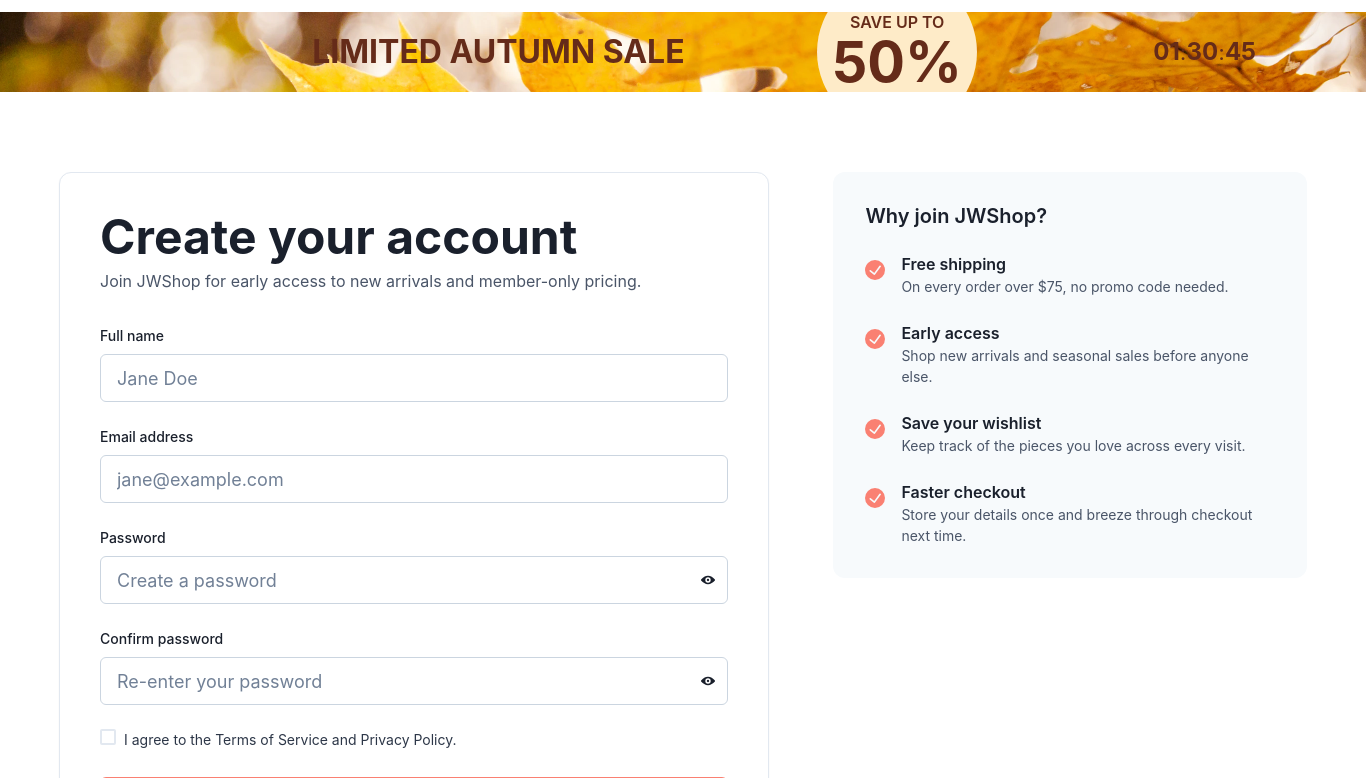
Scenario: RegisterPage component › shows an error when the name is left empty on blur
Click the field labelled "Full name" at coordinates (414, 378), box [100, 354, 728, 402]
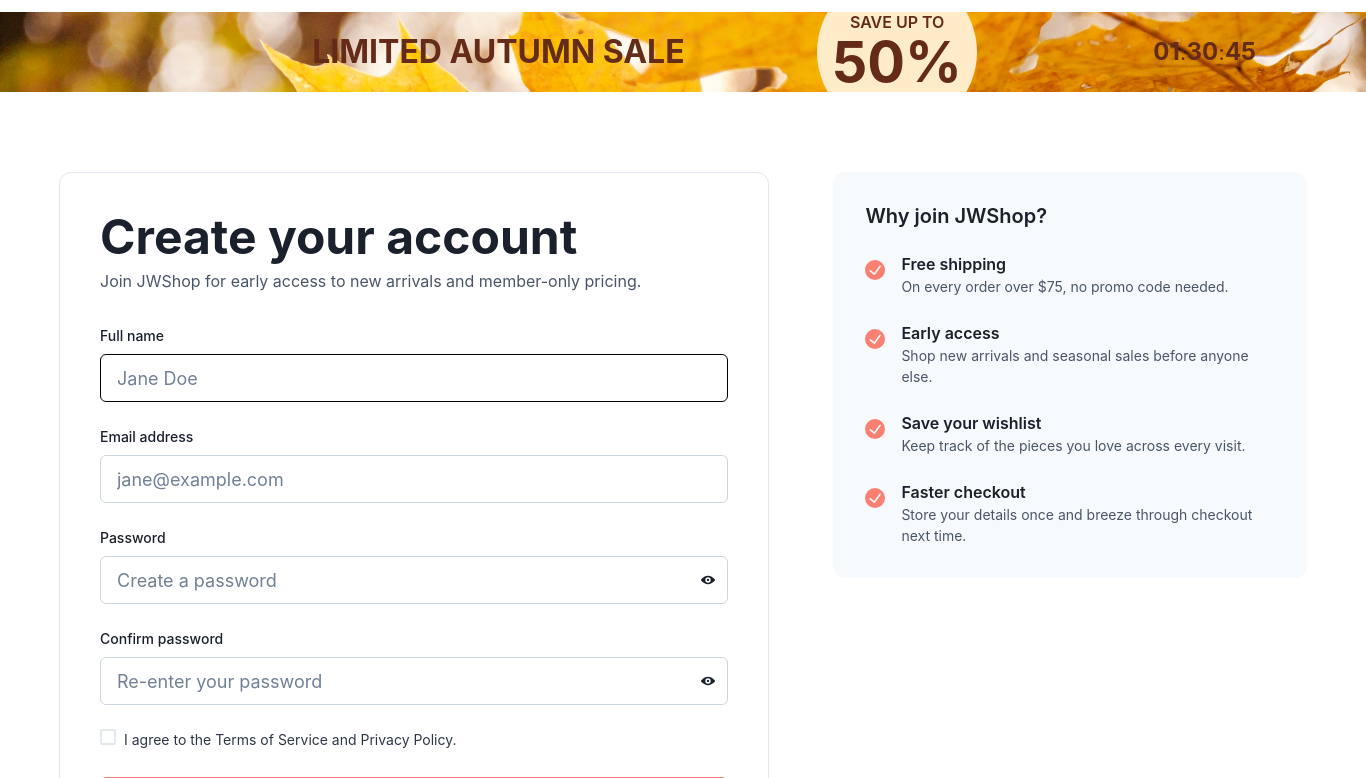
Press Tab
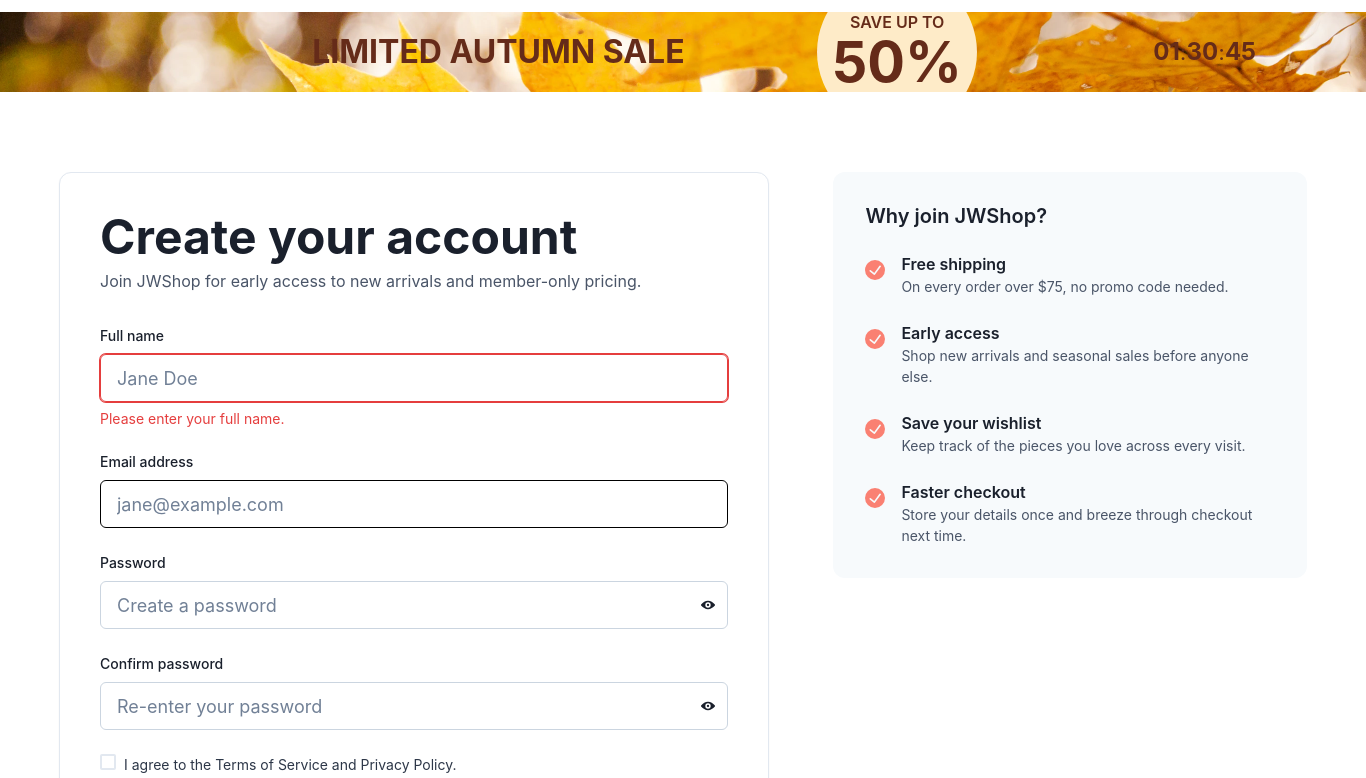
Now the text "Please enter your full name." is shown, box [100, 410, 284, 427]
